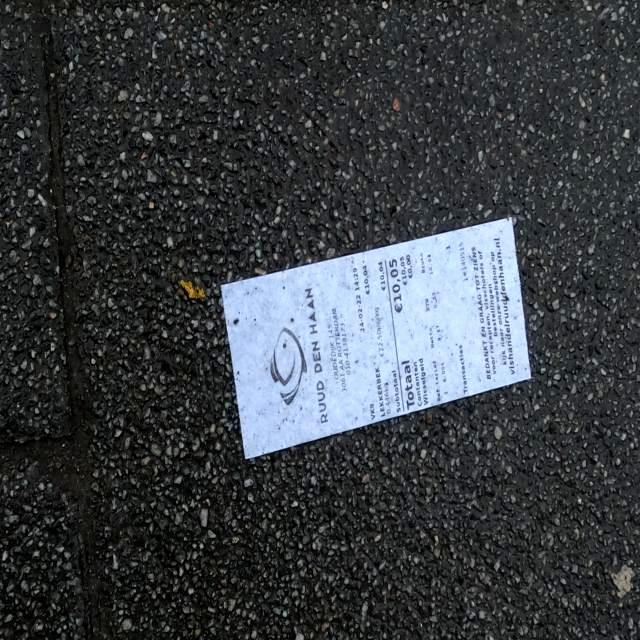Paper: (218, 211, 534, 463)
